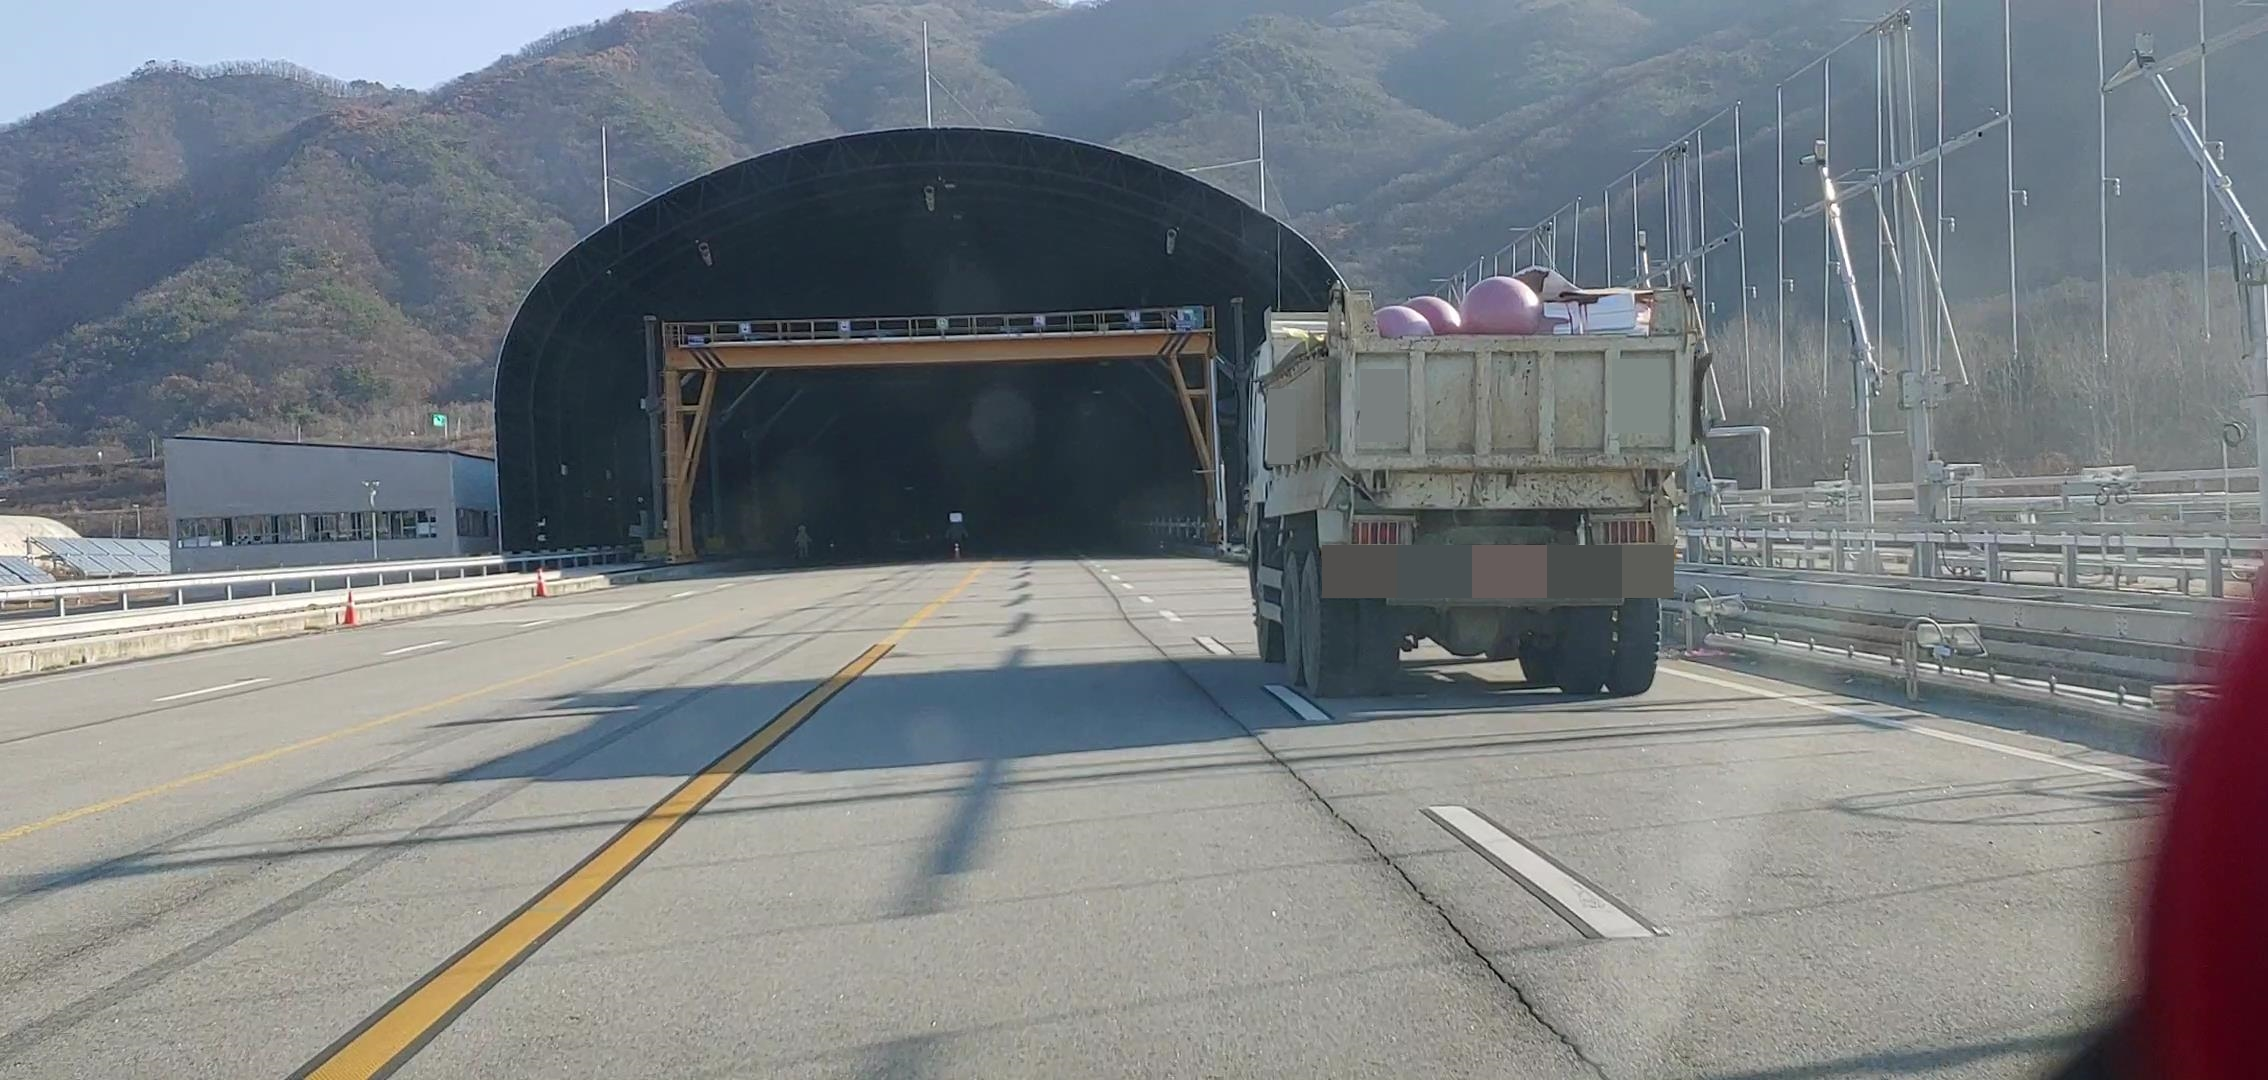불법차량: (1216, 265, 1714, 700)
